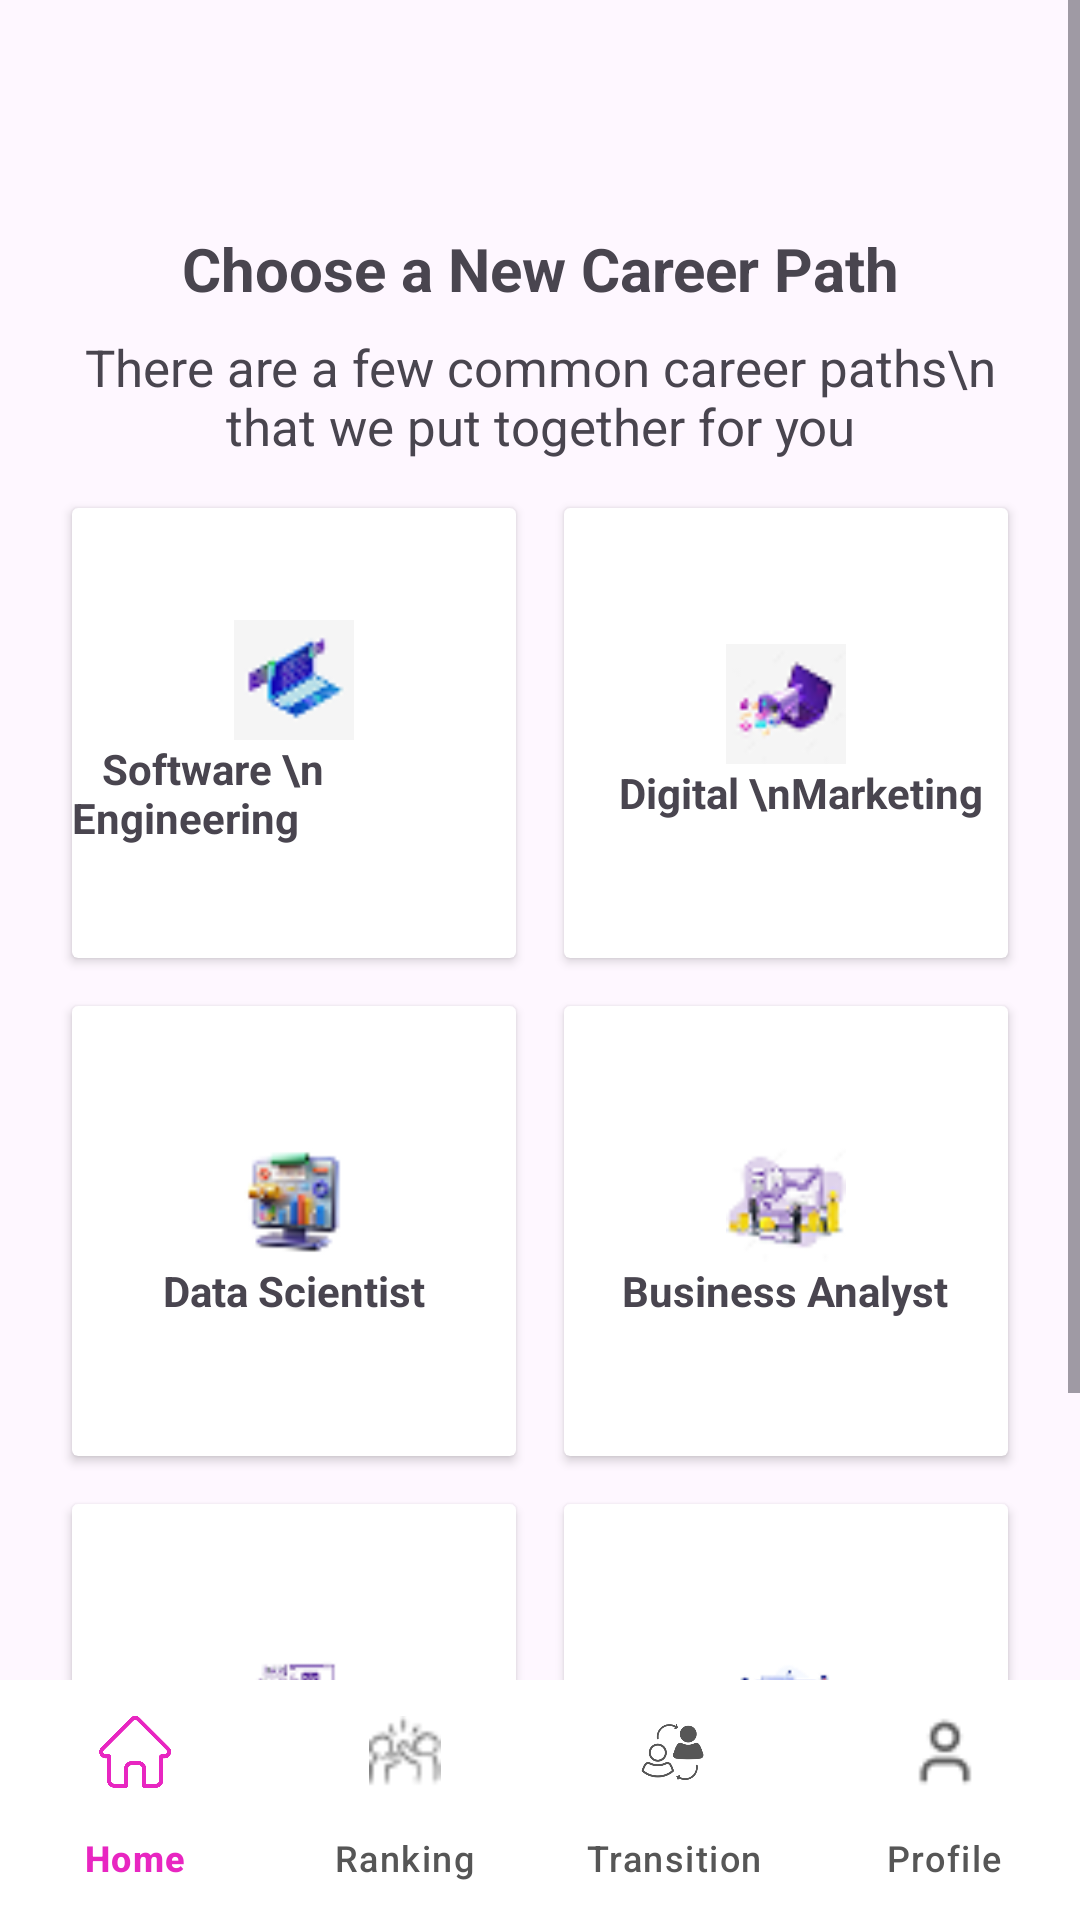

Where icons sit on this 1080w x 1920h app screen, as bbox=(x1, y1, x2, y2):
laptop: bbox=(248, 637, 344, 719)
monitor: bbox=(247, 1152, 340, 1252)
